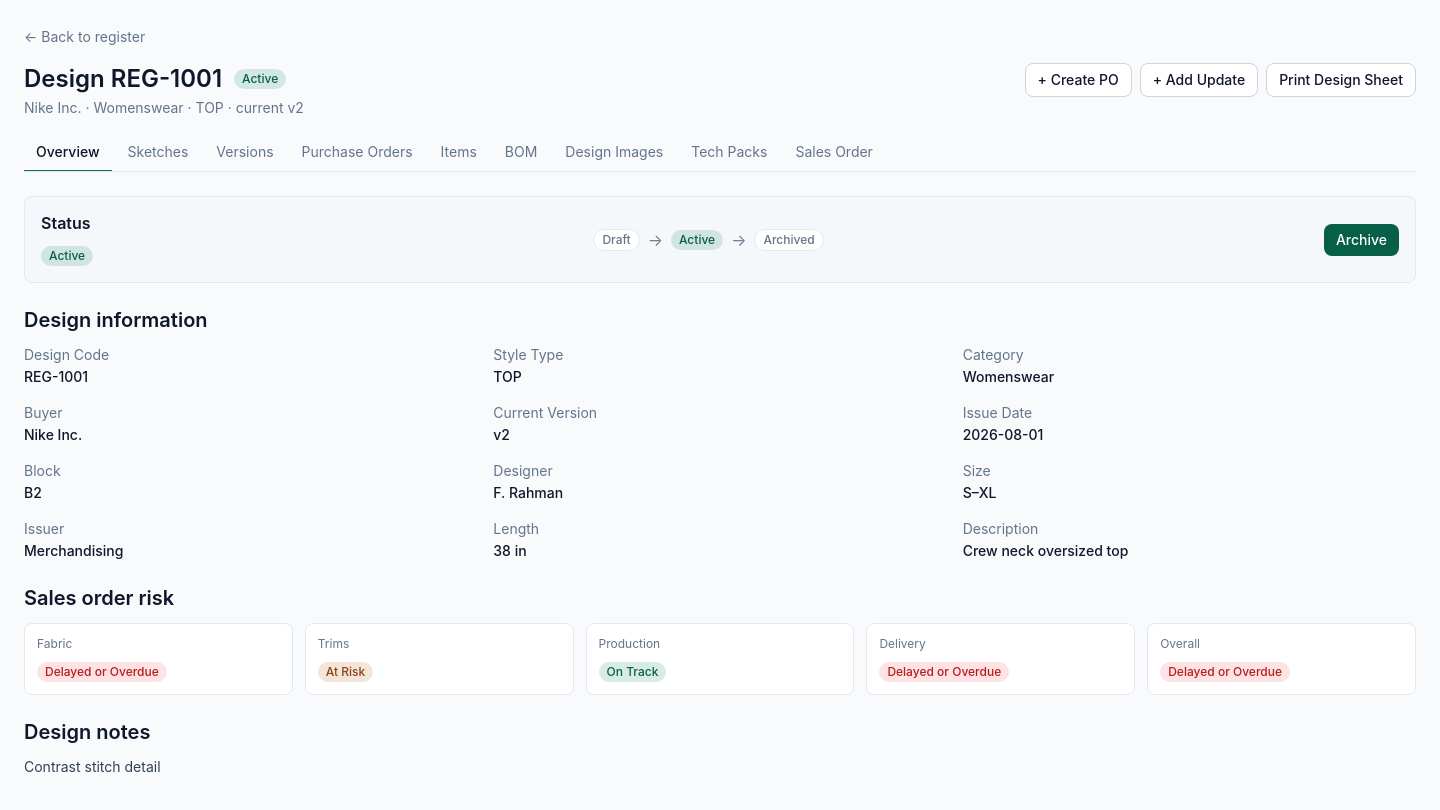
DesignDetailPage — Versions tab › lists versions with FN numbers and marks the current version
Expected: the heading "Design REG-1001" is shown, [24,63,222,94]
What coordinates should you click on to do the following:
click the tab "Versions"
I would click on:
 (245, 153)
Its box is [204,134,286,172].
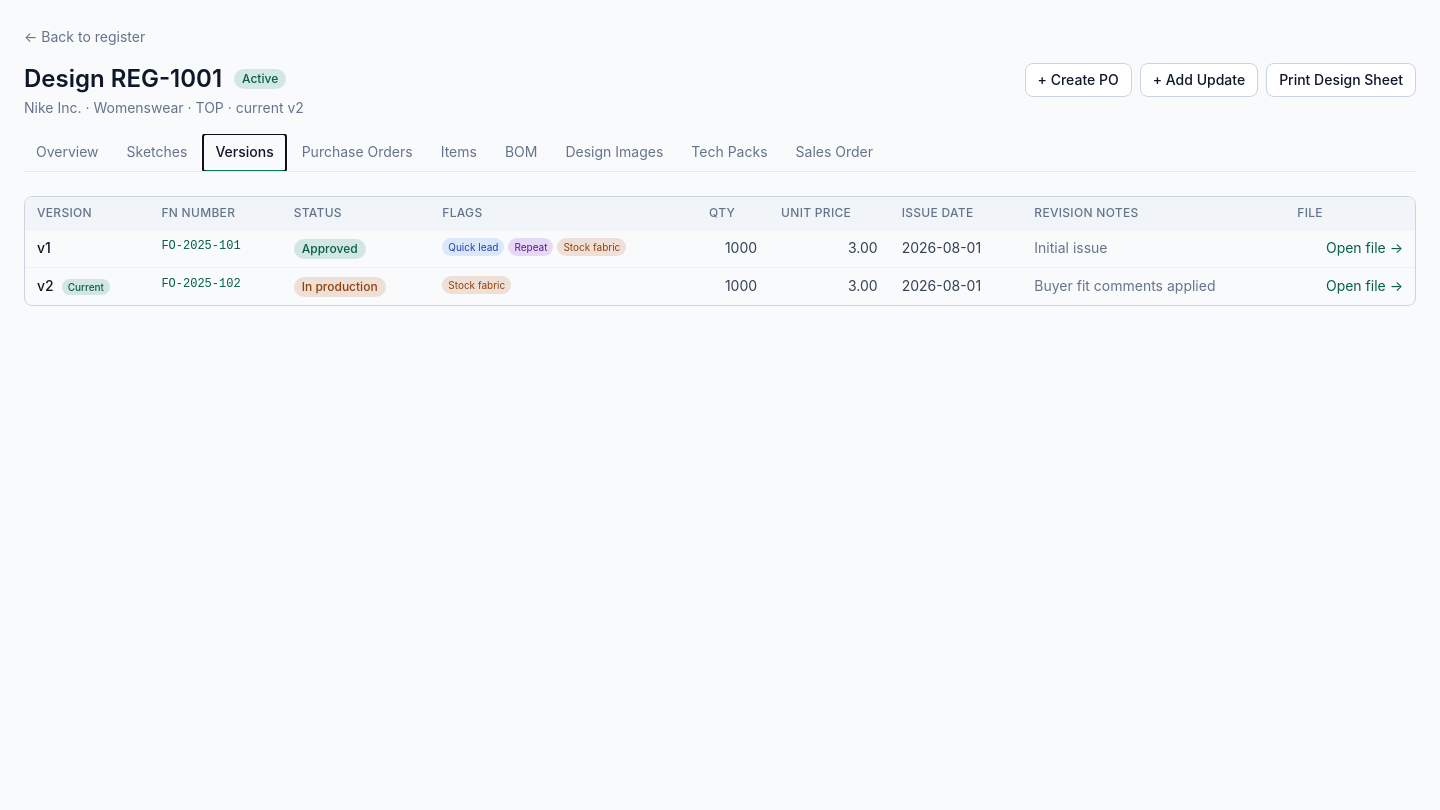
Expected: the text "v2" is shown, [37,277,54,294]
Expected: the text "v1" is shown, [37,239,51,256]
Expected: the link "FO-2025-102" is shown, [161,277,241,291]
